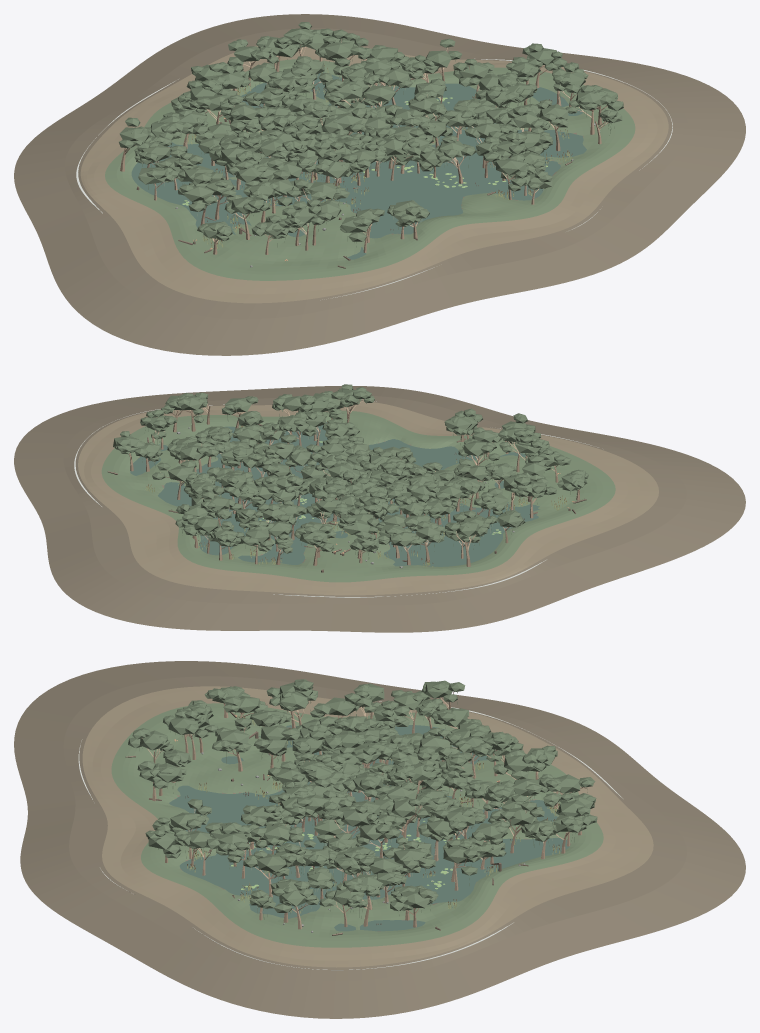
Rendered from island_swamp.glb.
The picture shows the model from 3 angles, top to bottom: view 1: azimuth 30°, elevation 25°; view 2: azimuth 150°, elevation 25°; view 3: azimuth 270°, elevation 25°; orthographic projection. The views are drawn at different scales.
Parts seen in each view (by area): view 1: Swamp_Base, Swamp_TreeLeaves2, Swamp_TreeLeaves, Swamp_TreeLeaves3, Swamp_Water, Swamp_Trees2, Swamp_Trees, Swamp_Trees3, Swamp_Cattails, Swamp_Foam; view 2: Swamp_Base, Swamp_TreeLeaves2, Swamp_TreeLeaves, Swamp_TreeLeaves3, Swamp_Water, Swamp_Trees, Swamp_Trees2, Swamp_Trees3, Swamp_Foam, Swamp_Cattails; view 3: Swamp_Base, Swamp_TreeLeaves, Swamp_TreeLeaves2, Swamp_TreeLeaves3, Swamp_Water, Swamp_Trees, Swamp_Trees3, Swamp_Trees2, Swamp_Foam, Swamp_Cattails.
Boxes of the visible parts, x1,y1,x2,y2 form: Swamp_Base: [14, 14, 745, 355]; Swamp_TreeLeaves2: [119, 29, 623, 238]; Swamp_TreeLeaves: [137, 22, 622, 241]; Swamp_TreeLeaves3: [134, 28, 568, 241]; Swamp_Water: [131, 72, 586, 259]; Swamp_Trees2: [120, 39, 607, 254]; Swamp_Trees: [150, 44, 608, 252]; Swamp_Trees3: [147, 50, 560, 254]; Swamp_Cattails: [188, 66, 572, 248]; Swamp_Foam: [76, 58, 672, 300]; Swamp_Base: [14, 386, 745, 632]; Swamp_TreeLeaves2: [135, 384, 571, 551]; Swamp_TreeLeaves: [113, 387, 550, 553]; Swamp_TreeLeaves3: [167, 391, 588, 546]; Swamp_Water: [130, 422, 539, 566]; Swamp_Trees: [129, 399, 527, 565]; Swamp_Trees2: [145, 407, 558, 566]; Swamp_Trees3: [182, 410, 579, 560]; Swamp_Foam: [74, 399, 598, 597]; Swamp_Cattails: [145, 427, 566, 567]; Swamp_Base: [14, 661, 745, 1018]; Swamp_TreeLeaves: [128, 690, 597, 911]; Swamp_TreeLeaves2: [145, 680, 596, 912]; Swamp_TreeLeaves3: [137, 679, 589, 889]; Swamp_Water: [169, 725, 569, 931]; Swamp_Trees: [142, 710, 580, 927]; Swamp_Trees3: [152, 701, 581, 903]; Swamp_Trees2: [165, 692, 587, 929]; Swamp_Foam: [78, 701, 622, 970]; Swamp_Cattails: [187, 717, 560, 913].
Size of the model in its own units: 517 by 46.52 by 447.
